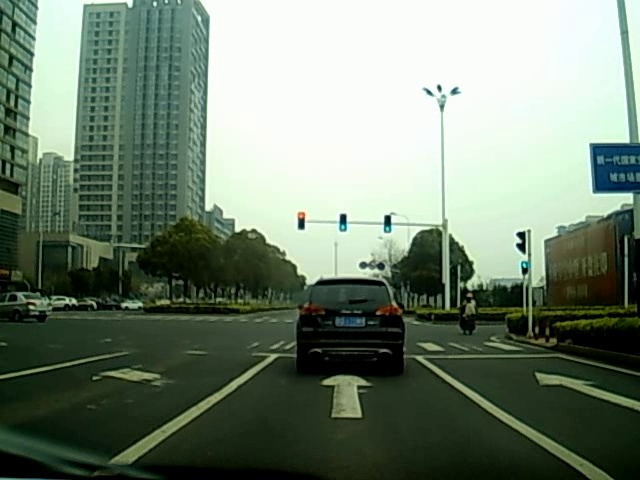Traffic_Light_go: (338, 214, 348, 232), (384, 216, 392, 235)
Traffic_Light_stop: (298, 212, 306, 231)
